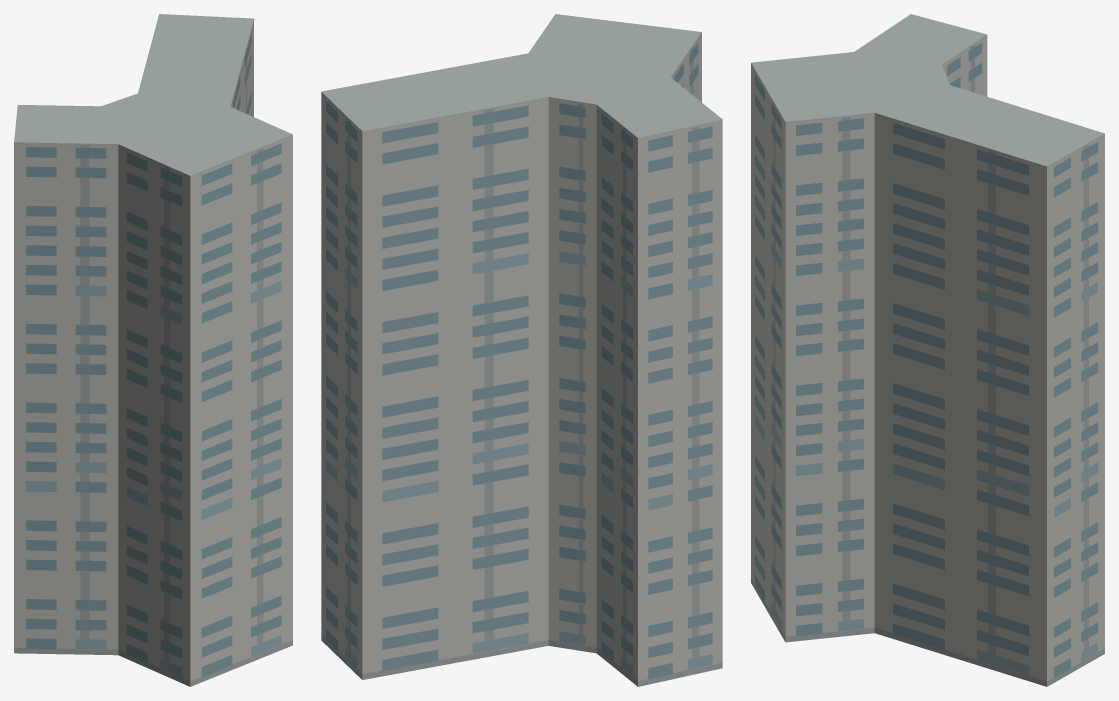
File: residential-1d1d1358-41c8-46b9-96e0-d3eb14da77db.glb
The picture shows the model from 3 angles, left to right: view 1: azimuth 30°, elevation 25°; view 2: azimuth 150°, elevation 25°; view 3: azimuth 270°, elevation 25°; orthographic projection. The views are drawn at different scales.
Visible parts, largest first — view 1: residential-1d1d1358-41c8-46b9-96e0-d3eb14da77db.tmp; view 2: residential-1d1d1358-41c8-46b9-96e0-d3eb14da77db.tmp; view 3: residential-1d1d1358-41c8-46b9-96e0-d3eb14da77db.tmp.
Boxes of the visible parts, x1,y1,x2,y2 form: residential-1d1d1358-41c8-46b9-96e0-d3eb14da77db.tmp: (14,14,292,686); residential-1d1d1358-41c8-46b9-96e0-d3eb14da77db.tmp: (321,14,722,686); residential-1d1d1358-41c8-46b9-96e0-d3eb14da77db.tmp: (751,14,1104,686).
Bounding box in the file's own units: 46.52 × 74 × 45.6.
